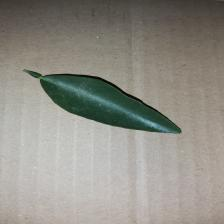healthy: (24, 58, 203, 142)
